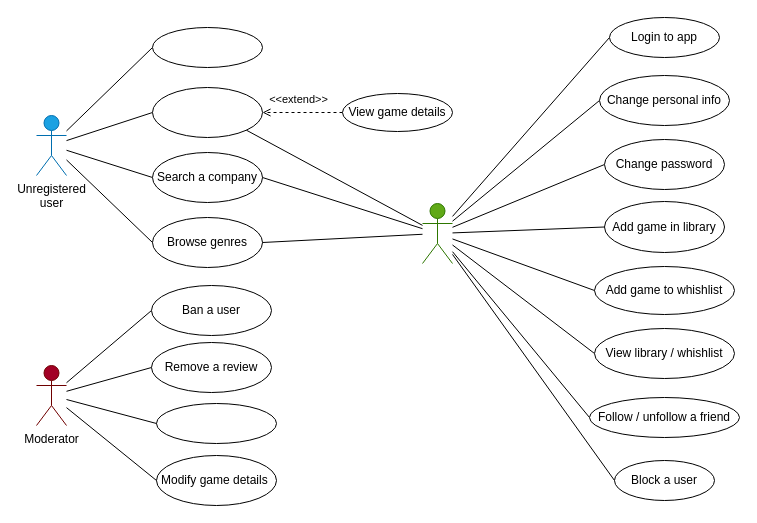
Image size: 757x523. Some labels were removed from this diagram. The shapes that lost their labels are listed below. From the top down, each one's centre as x and y in pixels, then its label:
At (207,47): "Register to app".
At (207,112): "Search a game".
At (437,233): "Registered user".
At (216,423): "Add a game".
